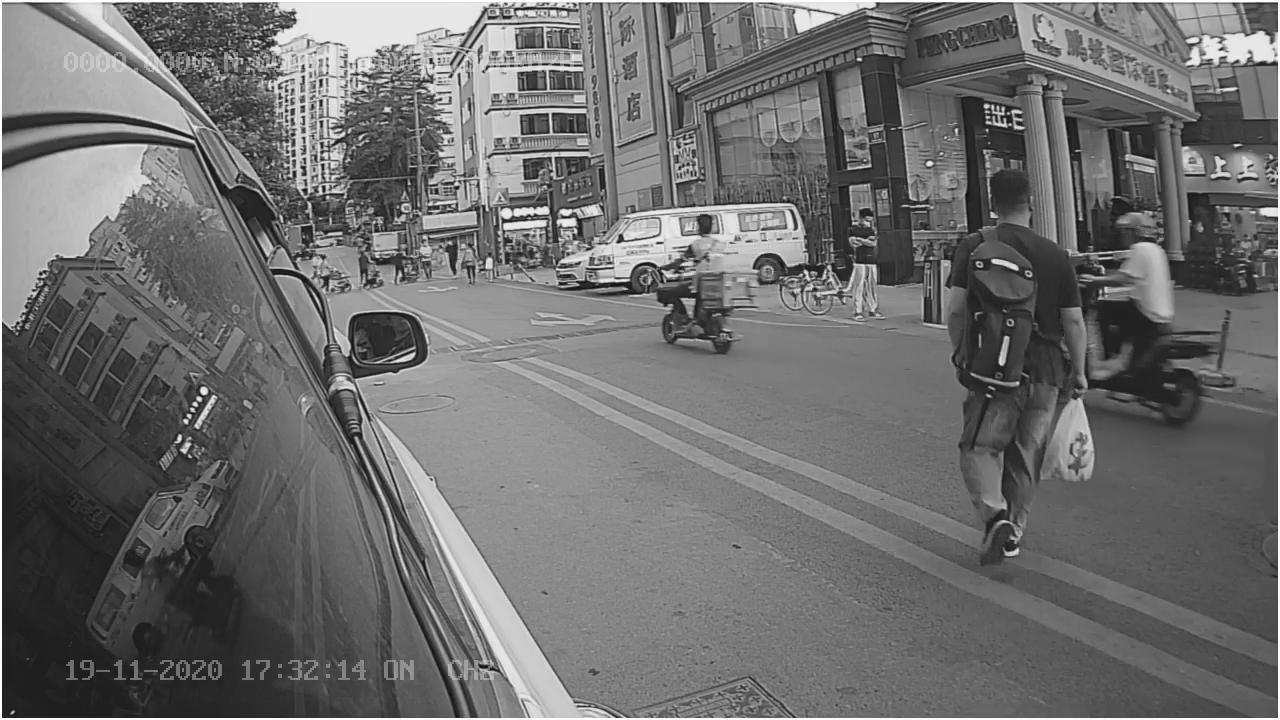person: (940, 168, 1061, 551)
